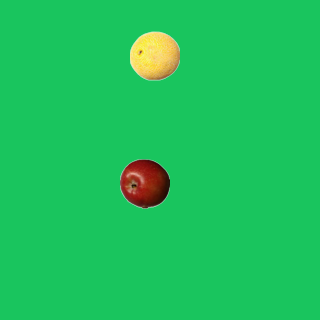Apple Braeburn: (119, 158, 169, 208)
Cantaloupe 1: (129, 30, 179, 80)
